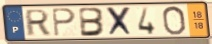4: (137, 6, 159, 36)
B: (78, 7, 107, 38)
O: (161, 5, 188, 36)
P: (51, 8, 78, 38)
R: (25, 8, 51, 38)
X: (105, 6, 135, 38)
